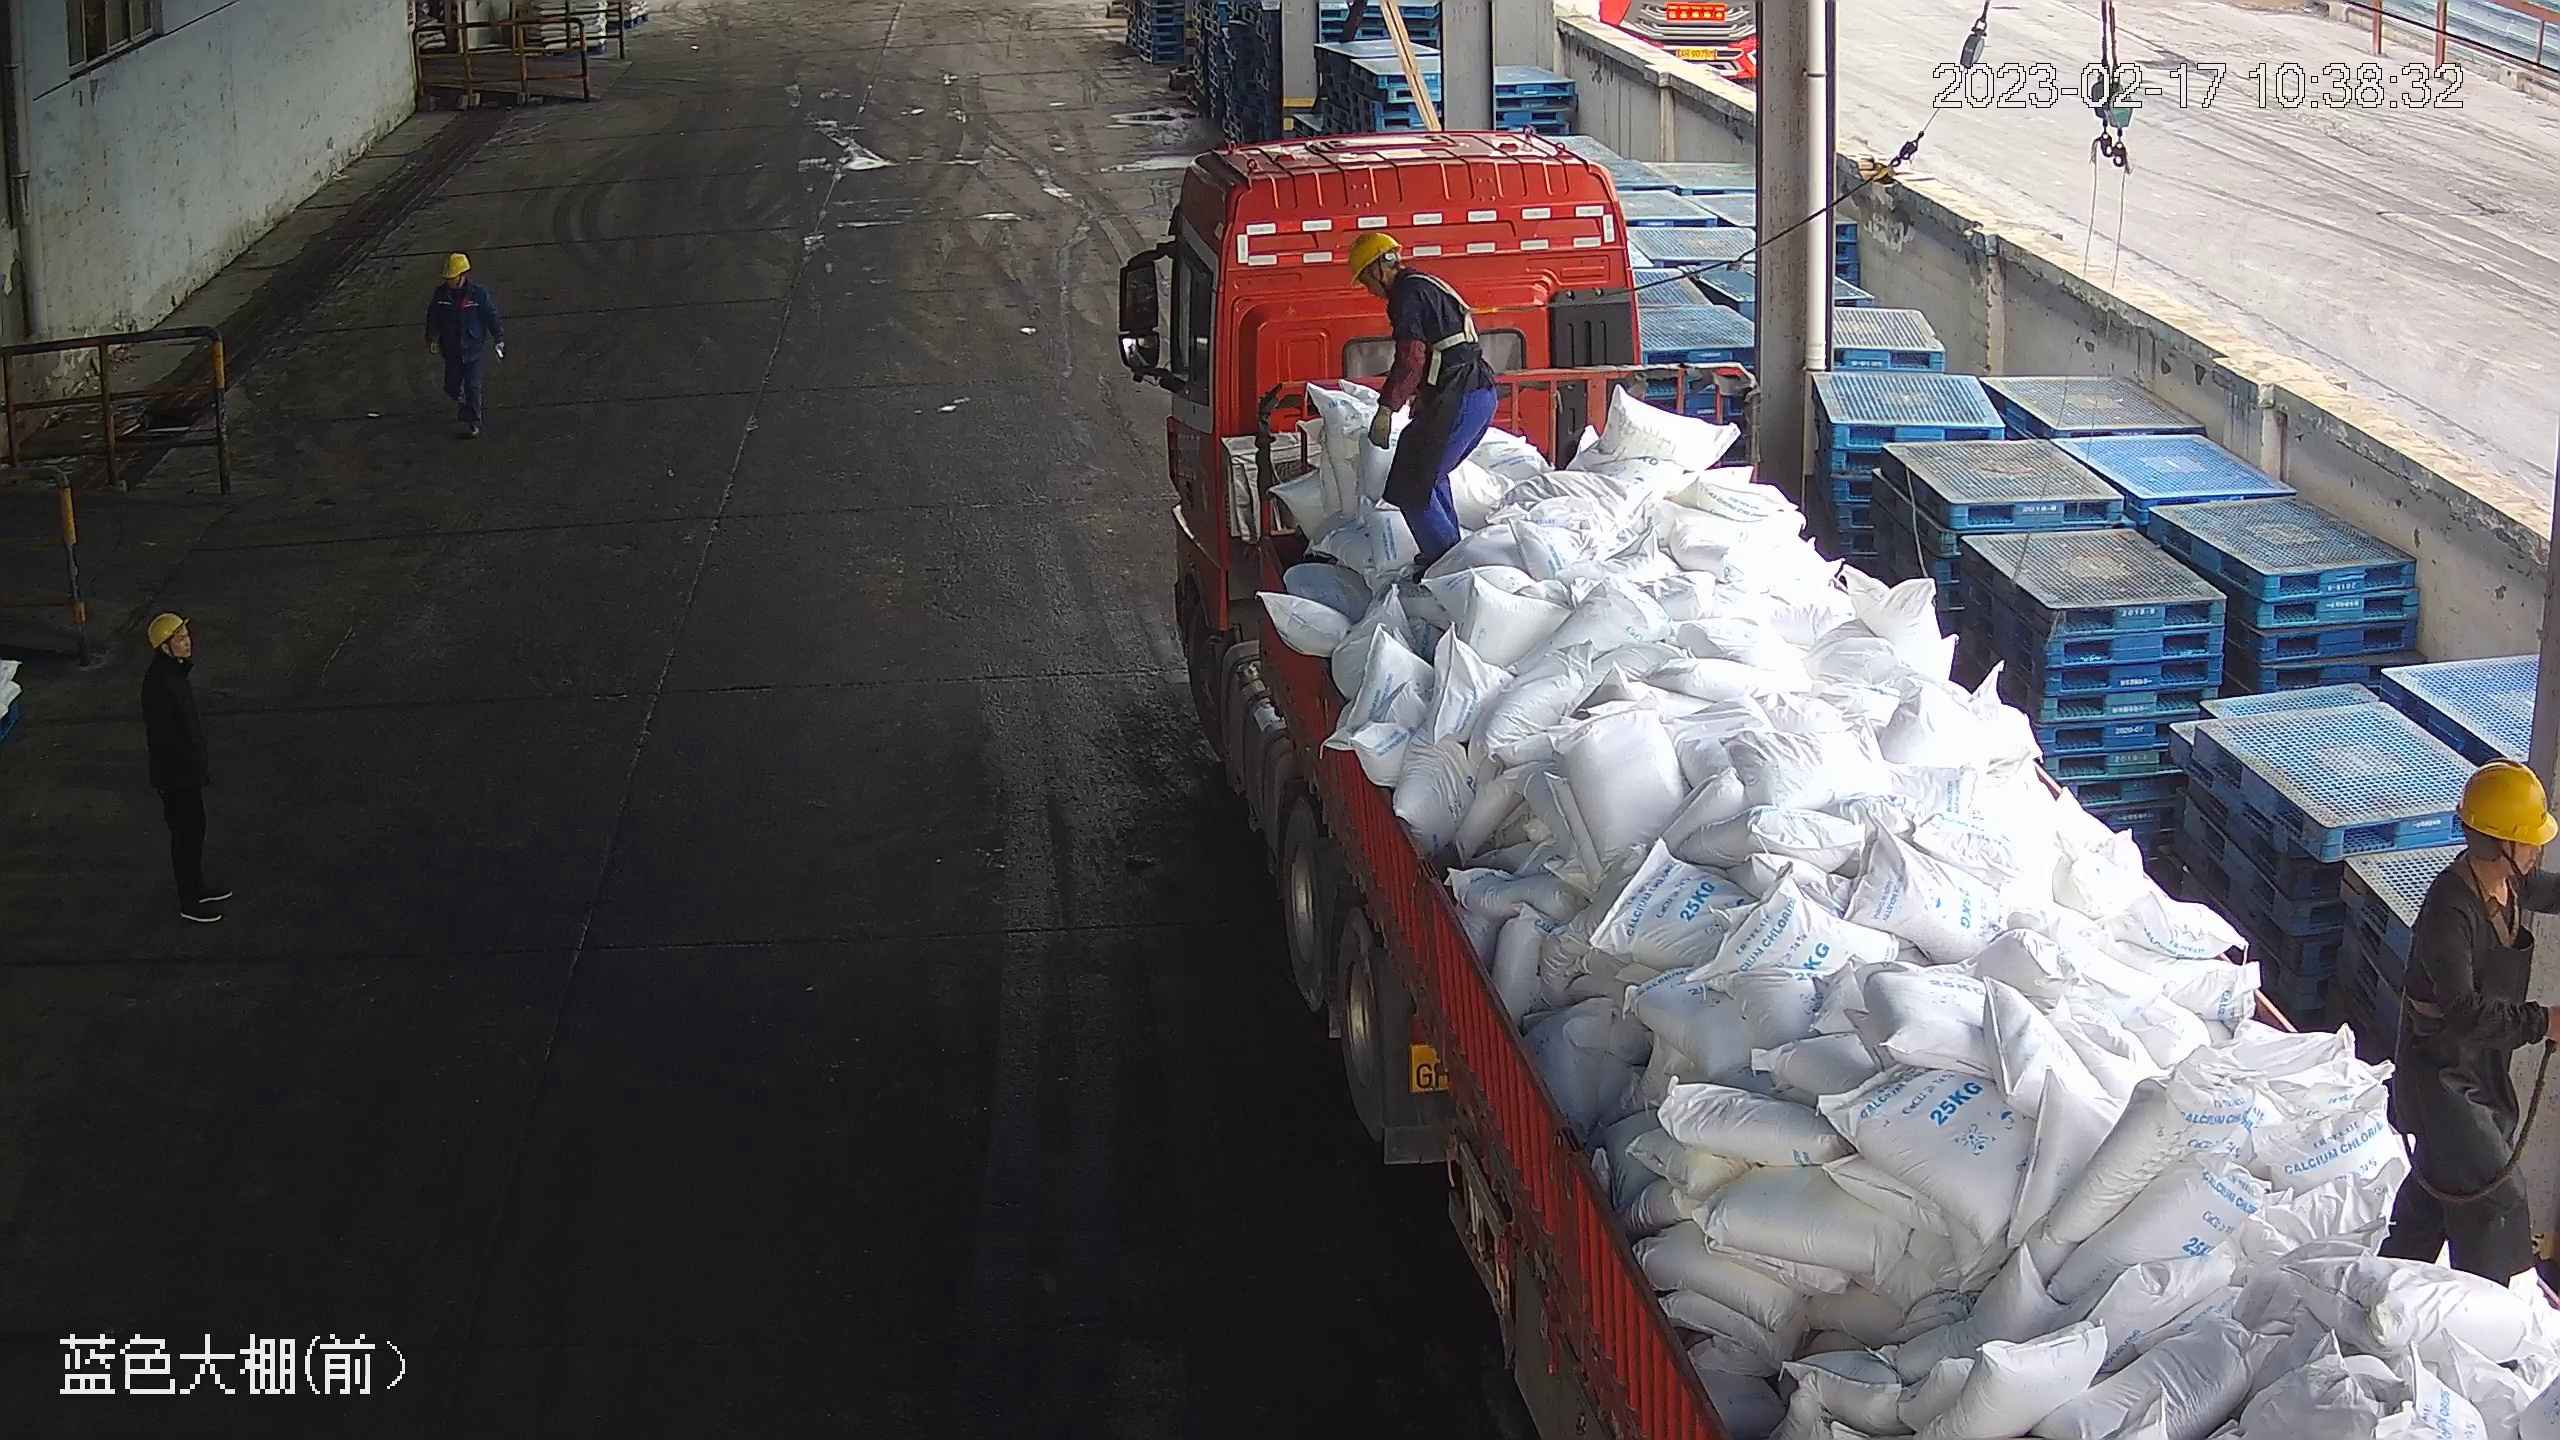belt: (2443, 861, 2548, 1008), (1404, 273, 1497, 351)
head: (2404, 748, 2560, 965), (1345, 229, 1454, 330), (138, 612, 201, 700), (425, 252, 492, 312)
helmet: (2444, 753, 2559, 847), (1345, 229, 1400, 285), (145, 612, 190, 651), (442, 251, 470, 275)
people: (2385, 752, 2560, 1298), (1344, 228, 1500, 583), (137, 611, 232, 928), (423, 252, 506, 441)
truck: (1124, 147, 2555, 1440)
